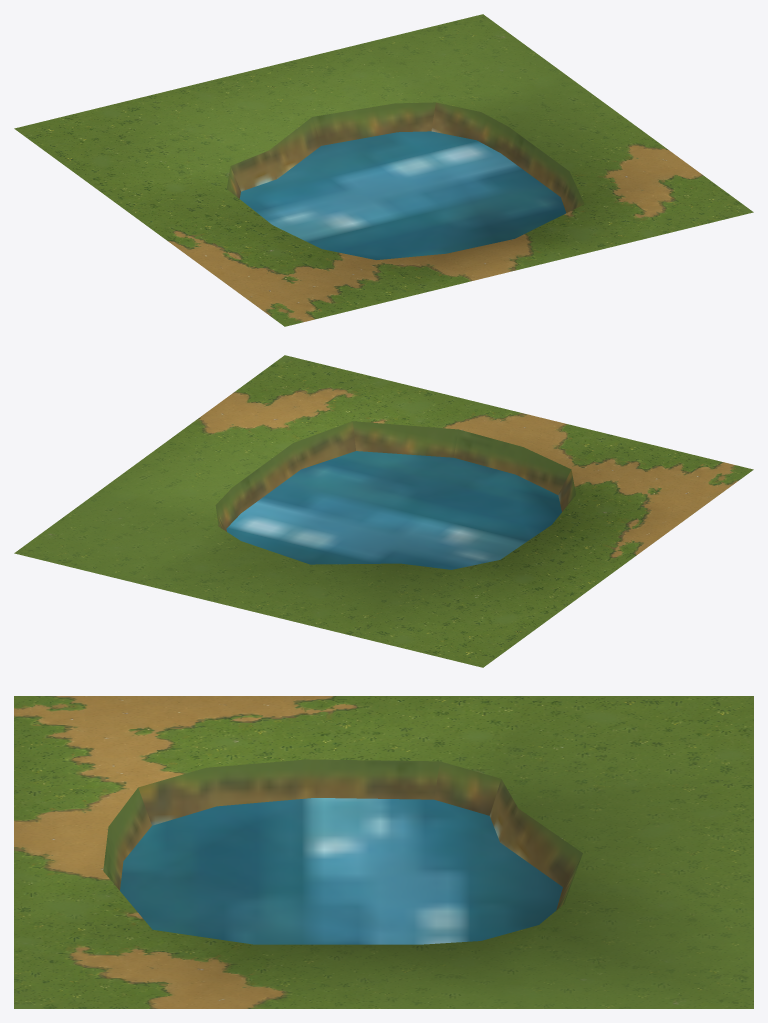
The model's file is Ground_RewardRoom.fbx.
3 views of the same model, one above another, from view 1: azimuth 30°, elevation 25°; view 2: azimuth 150°, elevation 25°; view 3: azimuth 270°, elevation 25° (orthographic). The views are drawn at different scales.
Visible parts, largest first — view 1: Plane.013; view 2: Plane.013; view 3: Plane.013.
Part boxes in pixels (x1=…): Plane.013: x1=14, y1=14, x2=753, y2=326; Plane.013: x1=14, y1=355, x2=753, y2=667; Plane.013: x1=14, y1=696, x2=753, y2=1008.
Bounding box in the file's own units: 2352 × 115 × 2352.
